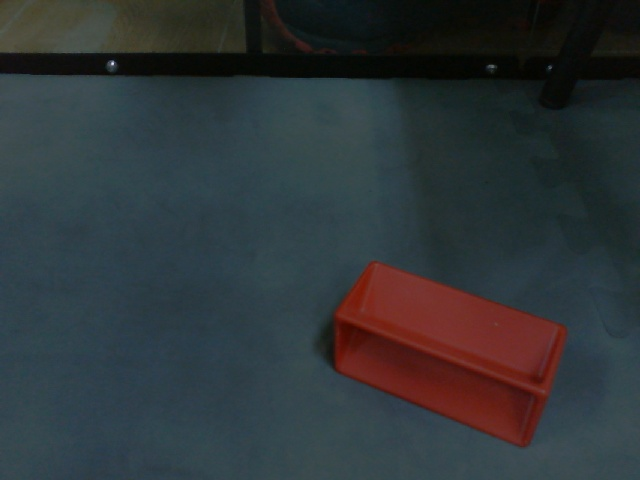RedSample: (330, 259, 570, 450)
